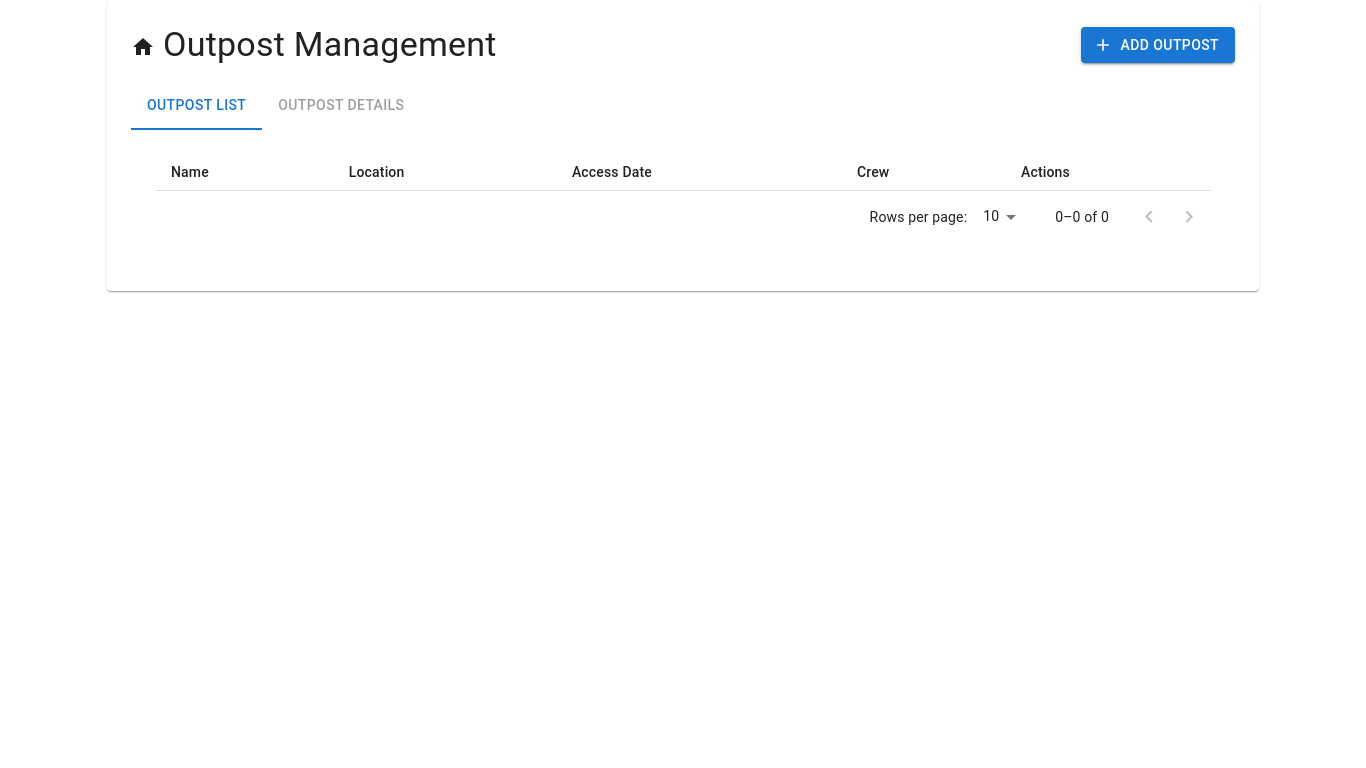
Test case: OutpostManagement › creates an outpost and refetches the list
Click the button "Add Outpost" at (1158, 45), box [1081,27,1235,63]
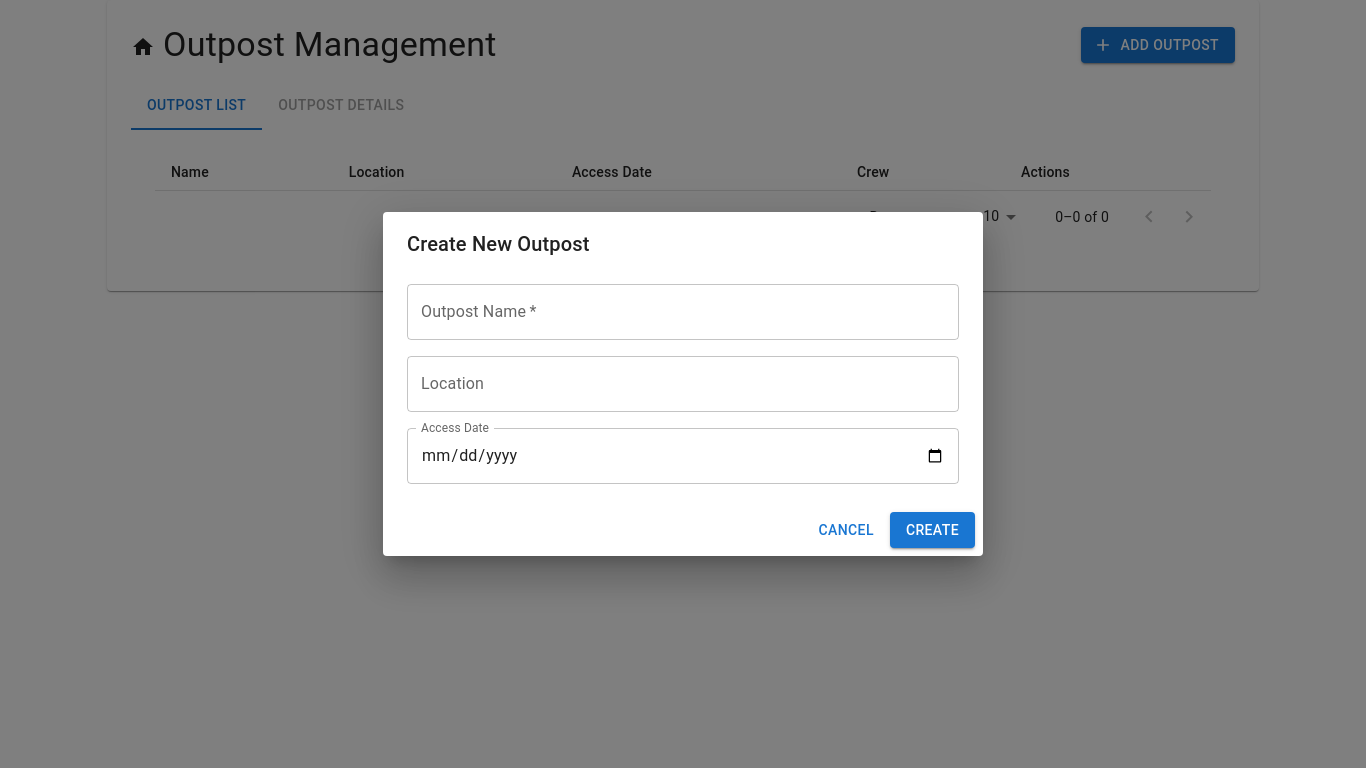
Type "Sandspit" into the field labelled "Outpost Name *" at (683, 312), box [407,284,959,340]
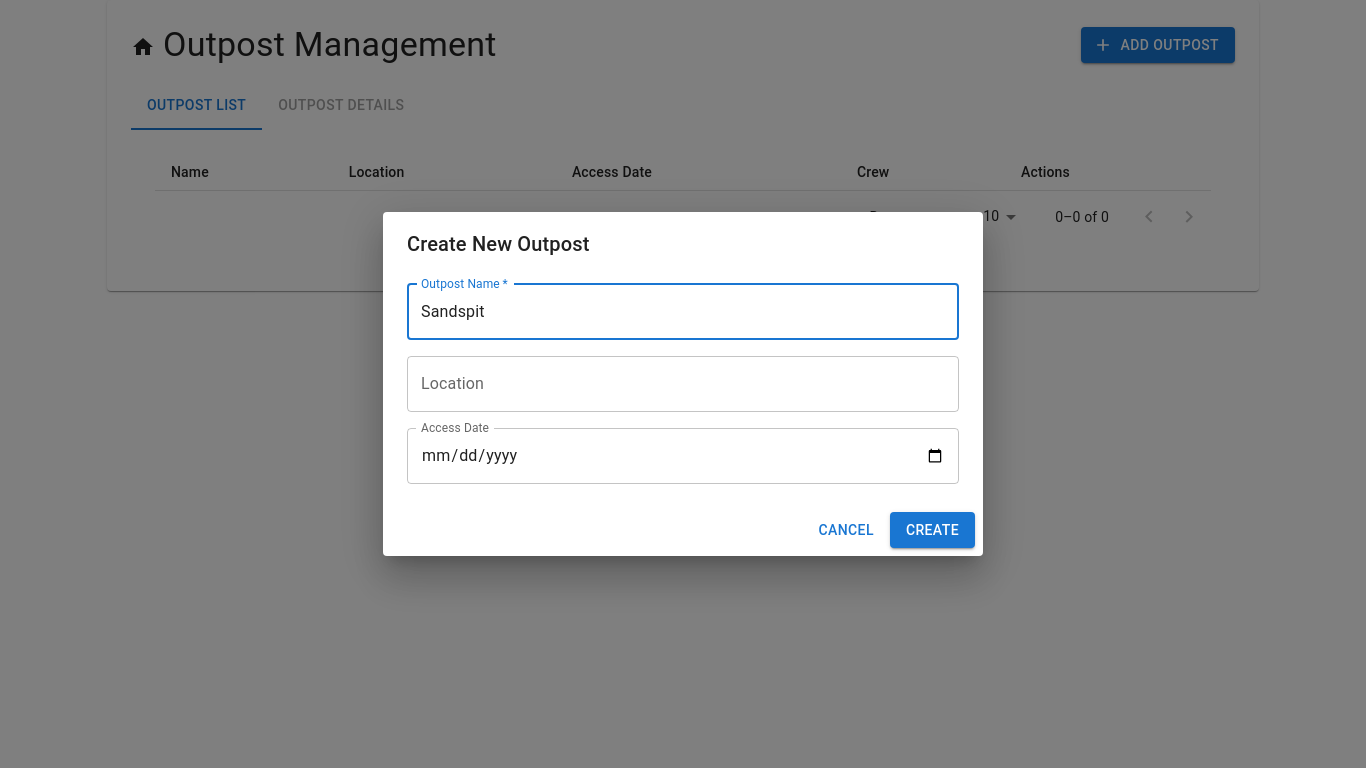
Type "Southern coast" into the field labelled "Location" at (683, 384), box [407,356,959,412]
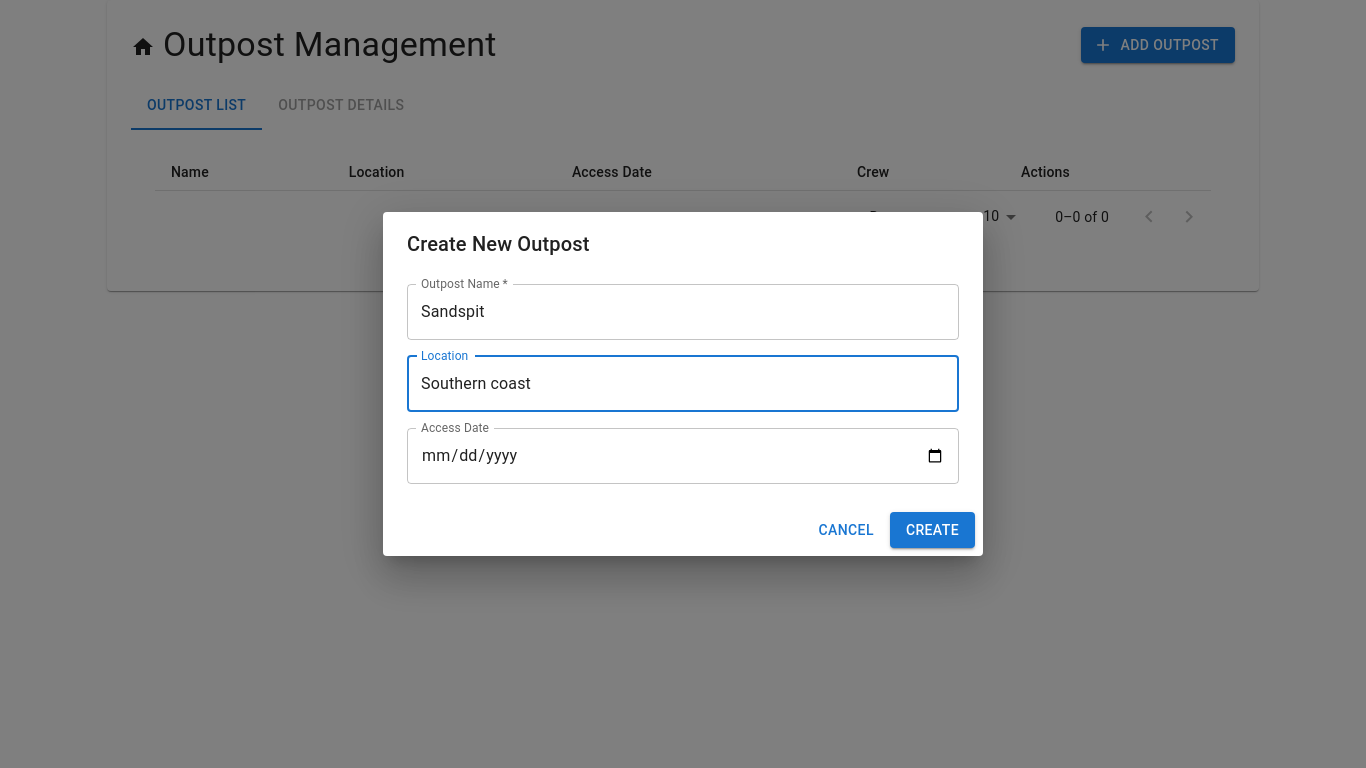
Click the button "Create" at (932, 530), box [890,512,975,548]
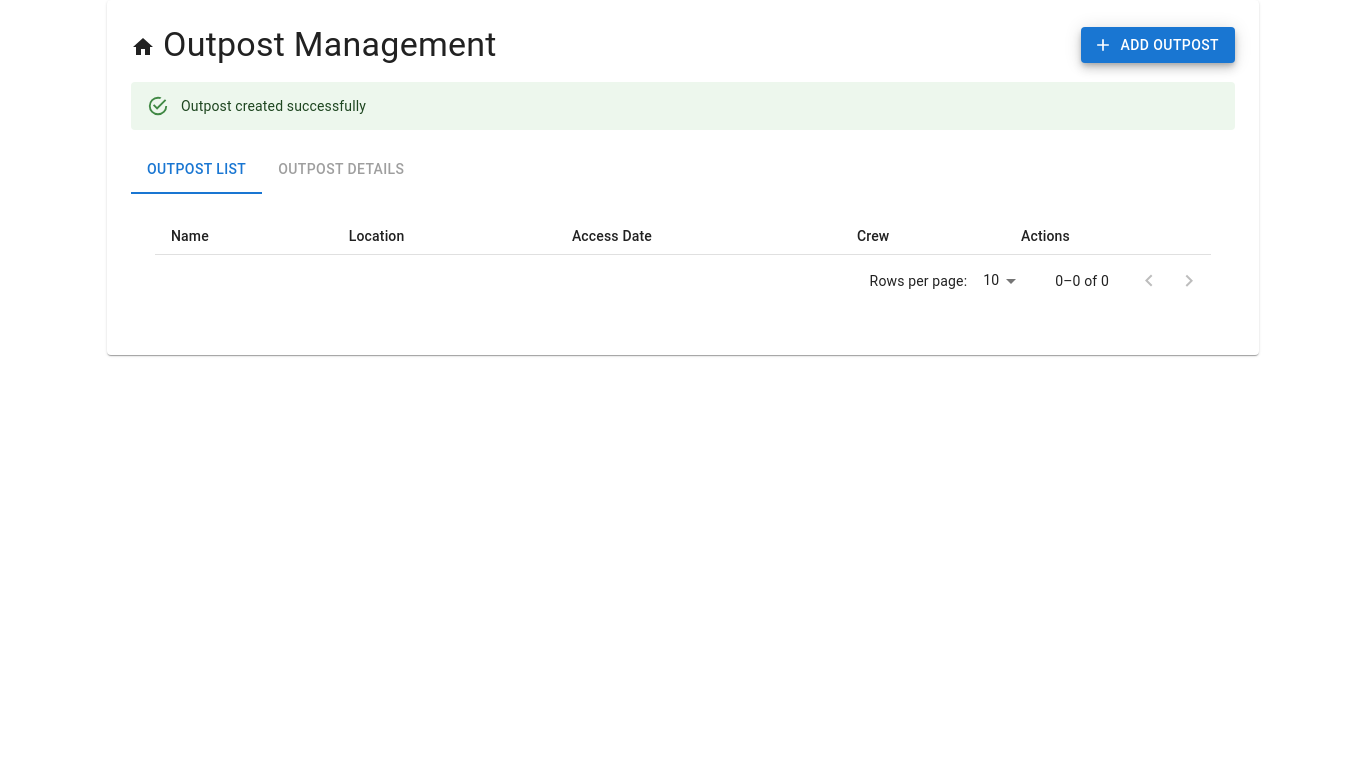
Expected: the text "Outpost created successfully" is shown, [181,98,366,114]
